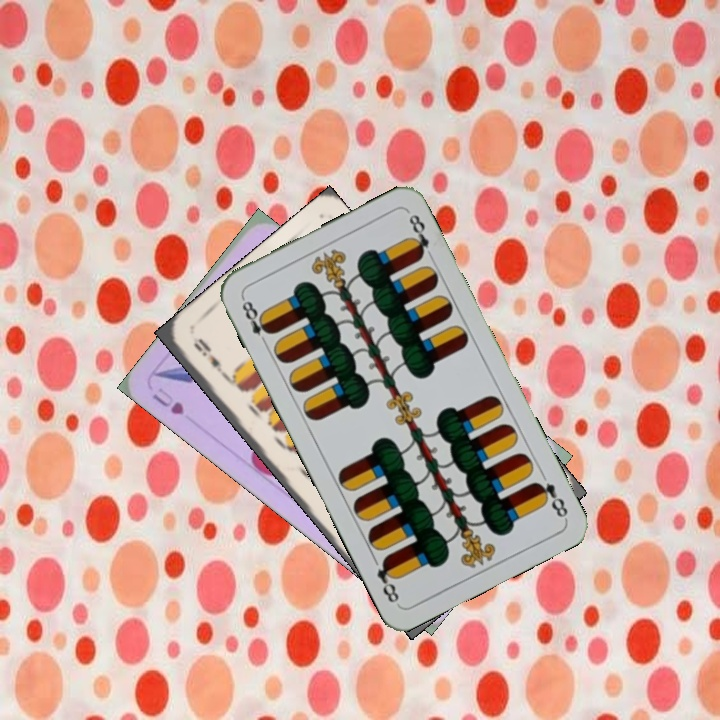E8: (237, 293, 275, 348), (530, 478, 571, 521)
E9: (189, 333, 231, 382)
HU: (147, 383, 187, 418)
